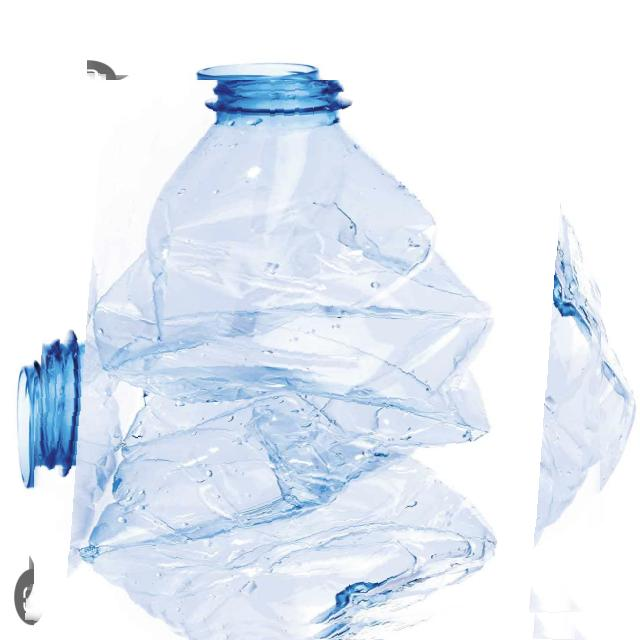recyclable: (34, 80, 603, 640)
